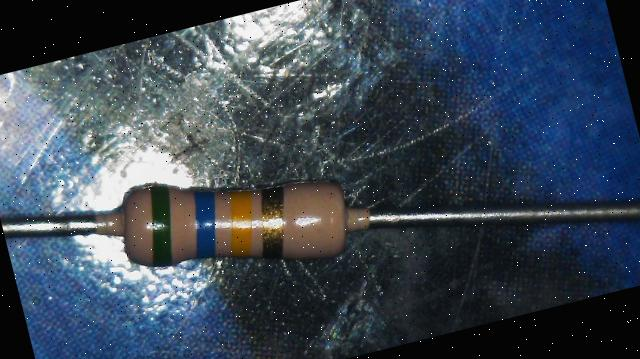blue: (182, 188, 228, 260)
gold: (248, 184, 298, 262)
green: (134, 182, 186, 268)
resistor: (118, 166, 354, 279)
yellow: (218, 187, 264, 259)
